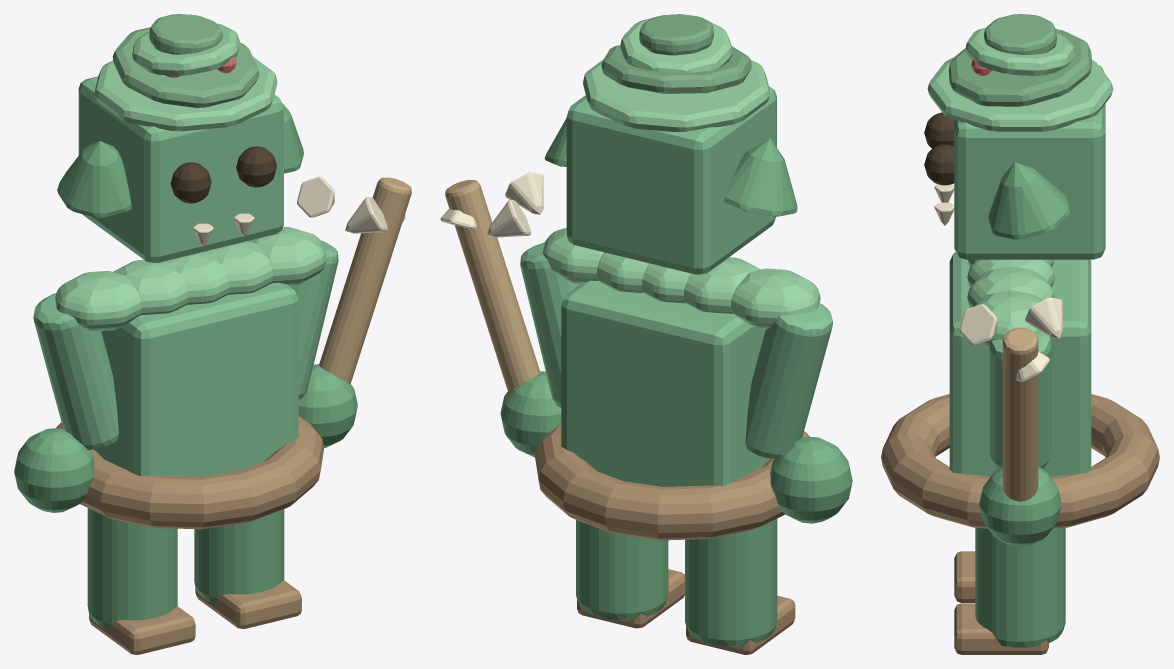
The model's file is bramble_imp.glb.
3 renders of one model, left to right at view 1: azimuth 30°, elevation 25°; view 2: azimuth 150°, elevation 25°; view 3: azimuth 270°, elevation 25°, orthographic. The views are drawn at different scales.
Visible parts, largest first — view 1: Body, Head, LoinCloth, Leg_L, Arm_L, Club, Leg_R, LeafCap0, Hand_L, LeafCap1, Ear_L, ShoulderLeaf0 (+15 smaller); view 2: Body, Head, LoinCloth, Leg_L, Arm_L, Leg_R, Club, LeafCap0, Hand_L, Arm_R, ShoulderLeaf0, Ear_L (+13 smaller); view 3: Head, LoinCloth, Body, Leg_R, Club, LeafCap0, LeafCap1, Ear_R, Hand_R, Arm_R, LeafCap2, LeafCap3 (+10 smaller).
Boxes of the visible parts, bbox=[...] form: Body: bbox=[94, 282, 298, 476]; Head: bbox=[78, 76, 283, 262]; LoinCloth: bbox=[56, 416, 323, 529]; Leg_L: bbox=[87, 508, 177, 629]; Arm_L: bbox=[33, 293, 118, 449]; Club: bbox=[319, 177, 411, 383]; Leg_R: bbox=[194, 509, 284, 603]; LeafCap0: bbox=[94, 57, 277, 131]; Hand_L: bbox=[14, 428, 94, 512]; LeafCap1: bbox=[112, 27, 259, 107]; Ear_L: bbox=[57, 141, 131, 217]; ShoulderLeaf0: bbox=[55, 271, 142, 331]; Body: bbox=[561, 280, 770, 486]; Head: bbox=[566, 86, 776, 274]; LoinCloth: bbox=[535, 425, 809, 540]; Leg_L: bbox=[685, 518, 777, 646]; Arm_L: bbox=[745, 303, 832, 459]; Leg_R: bbox=[576, 520, 668, 620]; Club: bbox=[445, 180, 540, 391]; LeafCap0: bbox=[583, 59, 770, 131]; Hand_L: bbox=[770, 436, 852, 523]; Arm_R: bbox=[520, 242, 579, 407]; ShoulderLeaf0: bbox=[731, 268, 820, 329]; Ear_L: bbox=[724, 138, 797, 216]; Head: bbox=[954, 65, 1105, 259]; LoinCloth: bbox=[881, 394, 1159, 528]; Body: bbox=[949, 252, 1091, 476]; Leg_R: bbox=[975, 527, 1065, 647]; Club: bbox=[1002, 327, 1038, 501]; LeafCap0: bbox=[927, 58, 1113, 131]; LeafCap1: bbox=[948, 29, 1092, 106]; Ear_R: bbox=[988, 162, 1070, 239]; Hand_R: bbox=[979, 466, 1061, 546]; Arm_R: bbox=[989, 332, 1051, 468]; LeafCap2: bbox=[965, 28, 1074, 76]; LeafCap3: bbox=[984, 14, 1056, 54].
Size of the model in its own units: 0.9512 by 1.37 by 0.5898.
